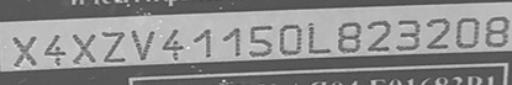letter: (128, 26, 158, 63), (68, 31, 98, 66), (482, 14, 510, 51), (246, 21, 274, 58), (159, 25, 187, 62), (362, 18, 392, 51), (98, 29, 128, 62), (276, 20, 304, 55), (40, 31, 68, 66), (454, 15, 480, 52), (306, 19, 332, 56), (394, 18, 422, 51), (10, 34, 38, 67), (424, 15, 450, 50), (336, 19, 362, 54), (219, 24, 243, 59), (190, 25, 214, 60)
